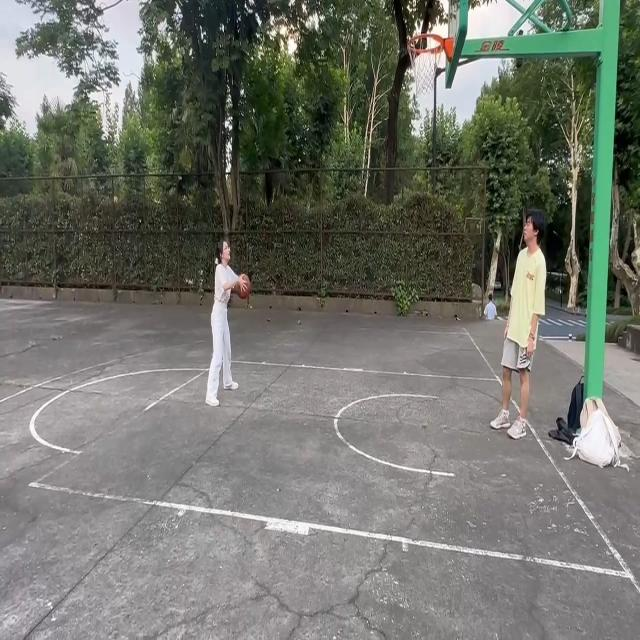basketball: (406, 31, 444, 99)
rim: (236, 272, 252, 298)
